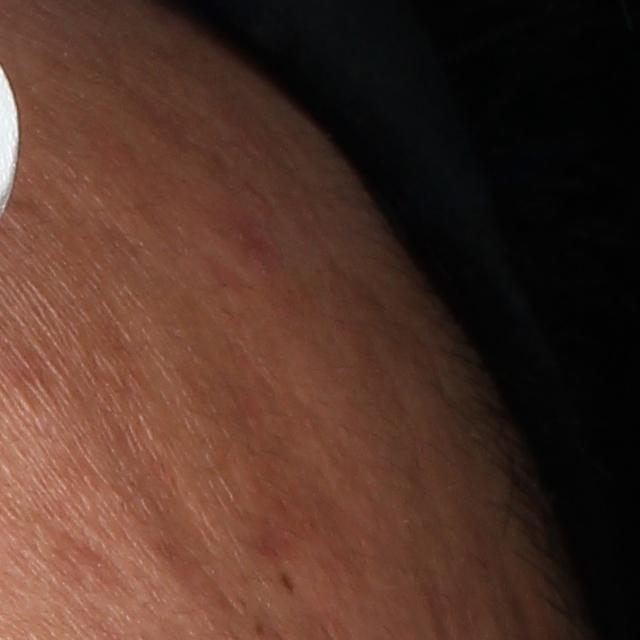nevus: (279, 571, 300, 597)
